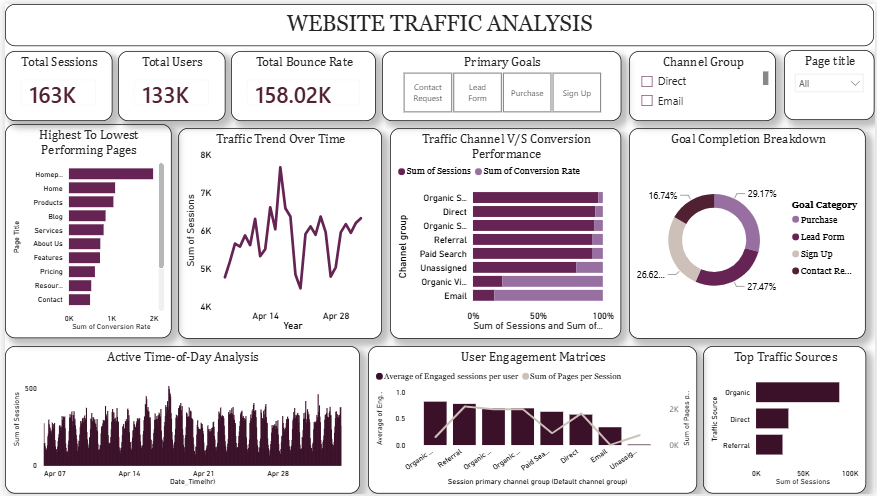

What the dashboard file says about the page in this screenshot:
{"tool":"powerbi","page":{"name":"website traffic analysis","canvas":[1280,720],"ordinal":0},"visuals":[{"type":"lineChart","title":"Traffic Trend Over Time","fields":{"Y":["Sum(website_traffic_analysis.Sessions)"],"Category":["website_traffic_analysis.Date + hour (YYYYMMDDHH).Variation.Date Hierarchy.Year","website_traffic_analysis.Date + hour (YYYYMMDDHH).Variation.Date Hierarchy.Month","website_traffic_analysis.Date + hour (YYYYMMDDHH).Variation.Date Hierarchy.Day"]},"box":[255,181.7,300,310],"z":0},{"type":"hundredPercentStackedBarChart","title":"Traffic Channel V/S Conversion Performance","fields":{"Category":["website_traffic_analysis.Session primary channel group (Default channel group)"],"Y":["Sum(website_traffic_analysis.Sessions)","Sum(website_traffic_analysis.Conversion Rate)"]},"box":[566.7,181.7,340,310],"z":1000},{"type":"donutChart","title":"Goal Completion Breakdown","fields":{"Category":["website_traffic_analysis.Primary Goal"],"Y":["Sum(website_traffic_analysis.Goal Completions)"]},"box":[918.3,181.7,348.3,310],"z":2000},{"type":"clusteredColumnChart","title":"Active Time-of-Day Analysis","fields":{"Category":["website_traffic_analysis.Date_Time(hr)"],"Y":["Sum(website_traffic_analysis.Sessions)","Sum(website_traffic_analysis.Sessions)"]},"box":[0,503.3,521.7,216.7],"z":3000},{"type":"barChart","title":"Top Traffic Sources","fields":{"Category":["website_traffic_analysis.Traffic Source"],"Y":["Sum(website_traffic_analysis.Sessions)"]},"box":[1026.7,503.3,240,216.7],"z":4000},{"type":"barChart","title":"Highest To Lowest Performing Pages","fields":{"Category":["website_traffic_analysis.Page Title"],"Y":["Sum(website_traffic_analysis.Conversion Rate)"]},"box":[0,176.7,245,315],"z":5000},{"type":"cardVisual","title":"Total Sessions","fields":{"Data":["Sum(website_traffic_analysis.Sessions)"]},"box":[0,68.9,157.8,103.3],"z":6000},{"type":"cardVisual","title":"Total Users","fields":{"Data":["Sum(website_traffic_analysis.Users)"]},"box":[165.6,68.9,157.8,103.3],"z":7000},{"type":"cardVisual","title":"Total Bounce Rate","fields":{"Data":["Sum(website_traffic_analysis.Bounce Rate)"]},"box":[332.2,68.9,213.3,103.3],"z":8000},{"type":"lineStackedColumnComboChart","title":"User Engagement Matrices","fields":{"Category":["website_traffic_analysis.Session primary channel group (Default channel group)"],"Y":["Avg(website_traffic_analysis.Engaged sessions per user)"],"Y2":["Sum(website_traffic_analysis.Pages per Session)"]},"box":[533.3,503.3,484.4,216.7],"z":9000},{"type":"slicer","title":"Channel Group","fields":{"Values":["website_traffic_analysis.Session primary channel group (Default channel group)"]},"box":[917.5,68.8,216.2,102.5],"z":10000},{"type":"slicer","title":"Primary Goals","fields":{"Values":["website_traffic_analysis.Primary Goal"]},"box":[554.4,68.9,352.2,103.3],"z":11000},{"type":"slicer","title":"Page title","fields":{"Values":["website_traffic_analysis.Page Title"]},"box":[1145,68.3,133.3,103.3],"z":12000},{"type":"textbox","box":[0,0,1278,62],"z":13000}]}

Visuals, with their boxes in screenshot pixels (x1, y1, x2, y2), scaled from the page's 1280x720 canvas onto the 877x496 screenshot:
"Traffic Trend Over Time" lineChart: {"x1": 175, "y1": 125, "x2": 380, "y2": 339}
"Traffic Channel V/S Conversion Performance" hundredPercentStackedBarChart: {"x1": 388, "y1": 125, "x2": 621, "y2": 339}
"Goal Completion Breakdown" donutChart: {"x1": 629, "y1": 125, "x2": 868, "y2": 339}
"Active Time-of-Day Analysis" clusteredColumnChart: {"x1": 0, "y1": 347, "x2": 357, "y2": 495}
"Top Traffic Sources" barChart: {"x1": 703, "y1": 347, "x2": 868, "y2": 495}
"Highest To Lowest Performing Pages" barChart: {"x1": 0, "y1": 122, "x2": 168, "y2": 339}
"Total Sessions" cardVisual: {"x1": 0, "y1": 47, "x2": 108, "y2": 119}
"Total Users" cardVisual: {"x1": 113, "y1": 47, "x2": 222, "y2": 119}
"Total Bounce Rate" cardVisual: {"x1": 228, "y1": 47, "x2": 374, "y2": 119}
"User Engagement Matrices" lineStackedColumnComboChart: {"x1": 365, "y1": 347, "x2": 697, "y2": 495}
"Channel Group" slicer: {"x1": 629, "y1": 47, "x2": 777, "y2": 118}
"Primary Goals" slicer: {"x1": 380, "y1": 47, "x2": 621, "y2": 119}
"Page title" slicer: {"x1": 785, "y1": 47, "x2": 876, "y2": 118}
textbox: {"x1": 0, "y1": 0, "x2": 876, "y2": 43}
